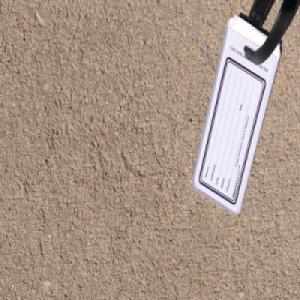LuggageTag: (190, 0, 293, 219)
